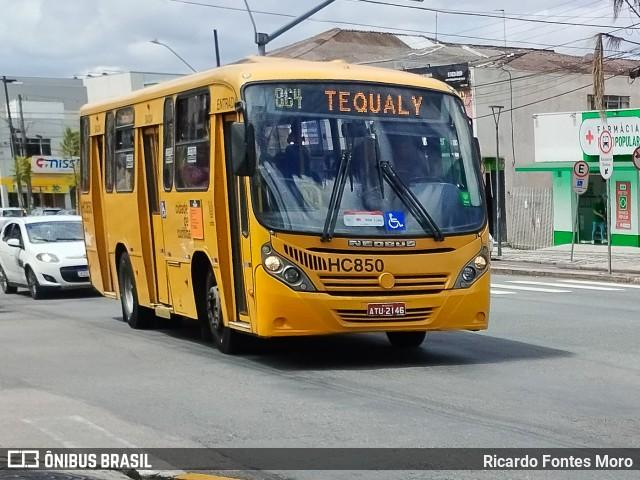TEQUALY: (317, 84, 429, 119)
